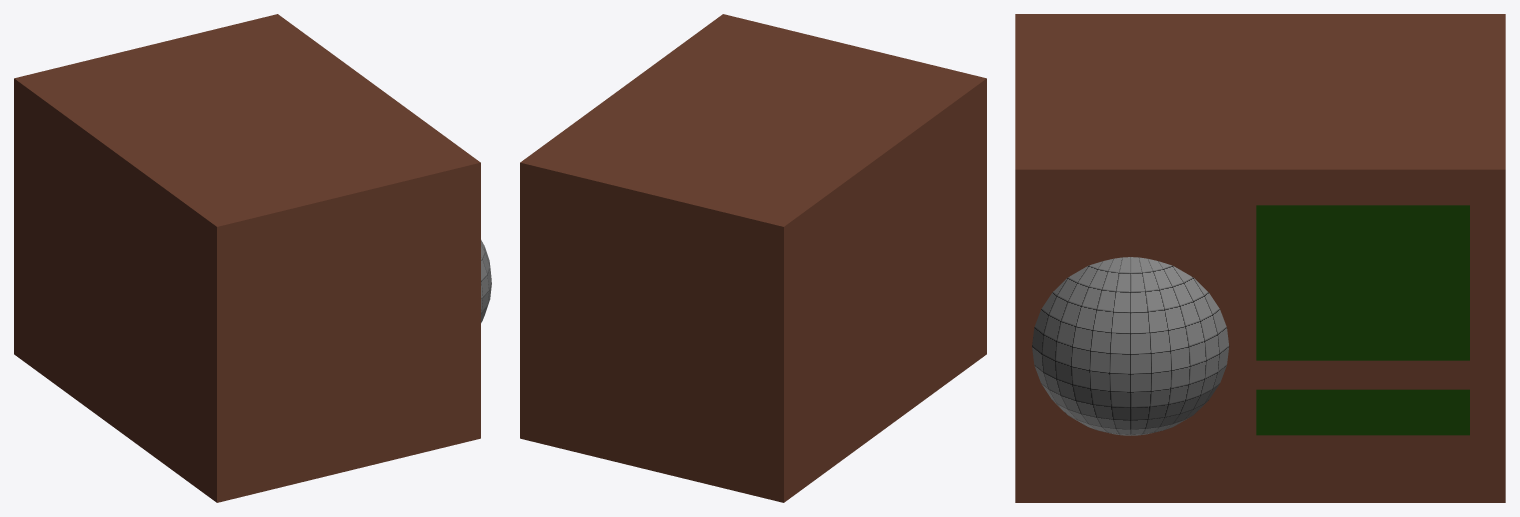
File: radio.fbx
3 views of the same model, side by side, from view 1: azimuth 30°, elevation 25°; view 2: azimuth 150°, elevation 25°; view 3: azimuth 270°, elevation 25° (orthographic). The views are drawn at different scales.
Parts seen in each view (by area): view 1: Cube, Sphere; view 2: Cube; view 3: Cube, Cube.001, Sphere, Cube.002.
Boxes of the visible parts, x1,y1,x2,y2 form: Cube: [14, 14, 480, 502]; Sphere: [481, 240, 491, 322]; Cube: [520, 14, 986, 502]; Cube: [1015, 14, 1505, 502]; Cube.001: [1256, 205, 1469, 360]; Sphere: [1032, 257, 1229, 435]; Cube.002: [1256, 389, 1469, 435].
Size of the model in its own units: 354 by 300 by 400.
